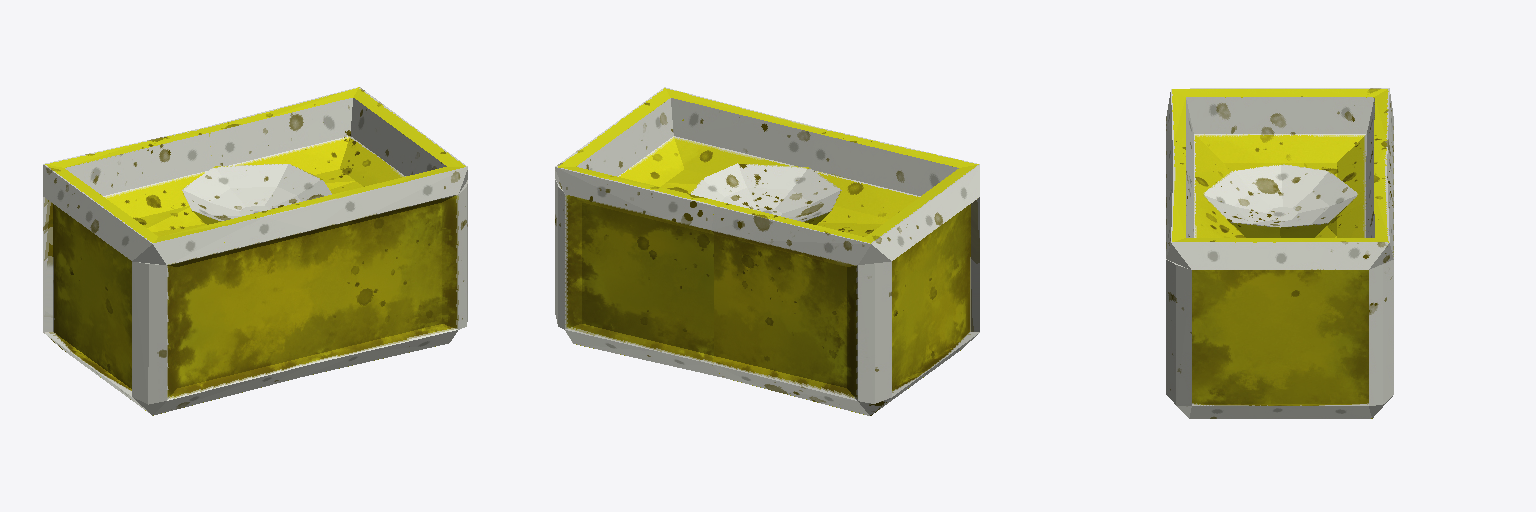
3 renders of one model, left to right at view 1: azimuth 30°, elevation 25°; view 2: azimuth 150°, elevation 25°; view 3: azimuth 270°, elevation 25°, orthographic.
Parts seen in each view (by area): view 1: Box001; view 2: Box001; view 3: Box001.
Boxes of the visible parts, <box> form: Box001: <box>43,87,467,415</box>; Box001: <box>555,87,979,415</box>; Box001: <box>1166,88,1393,418</box>.
Bounding box in the file's own units: 53.31 × 27.38 × 31.17.
1 materials, 1 textured.